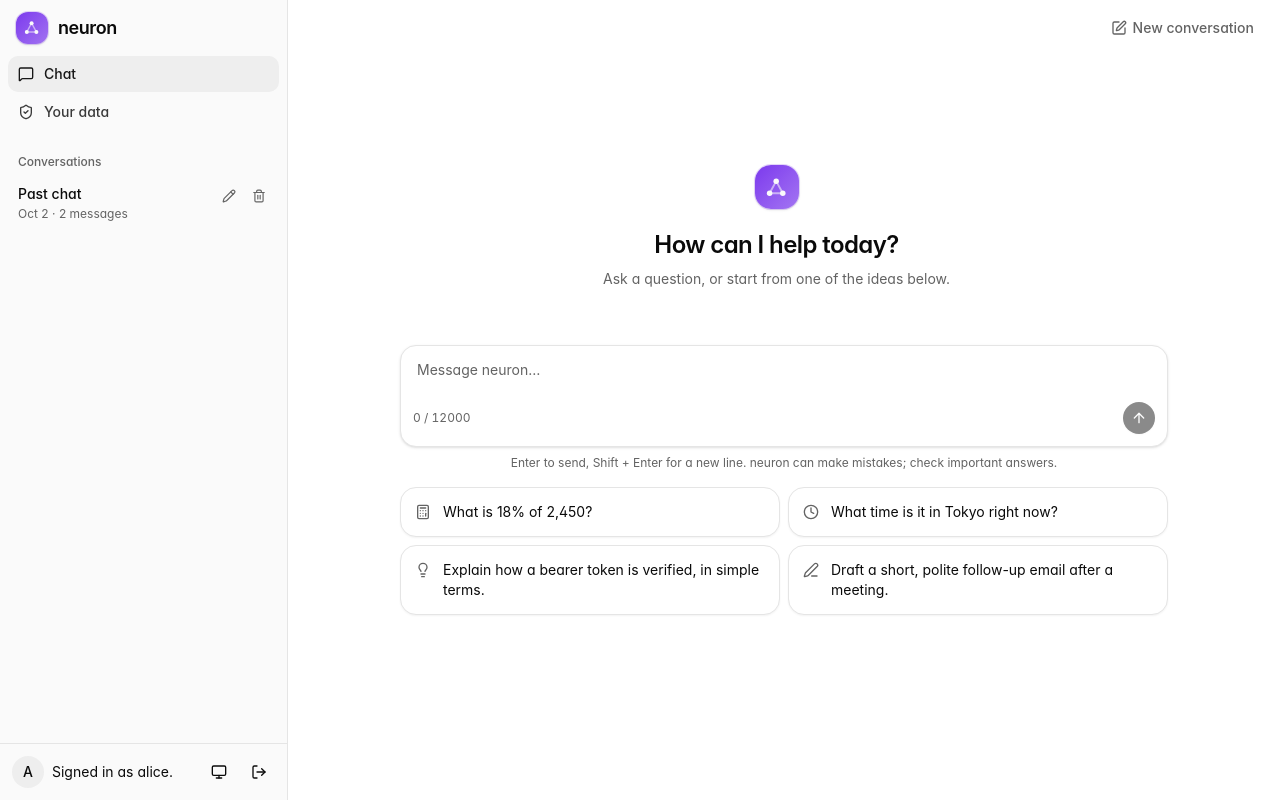
Test case: a conversation that ended waiting for approval › shows the card from the server's copy of the request and decides it
The width and height of the screenshot is (1280, 800).
Click the button with aria-label "Open Past chat".
click(50, 194)  # box [8,176,279,230]
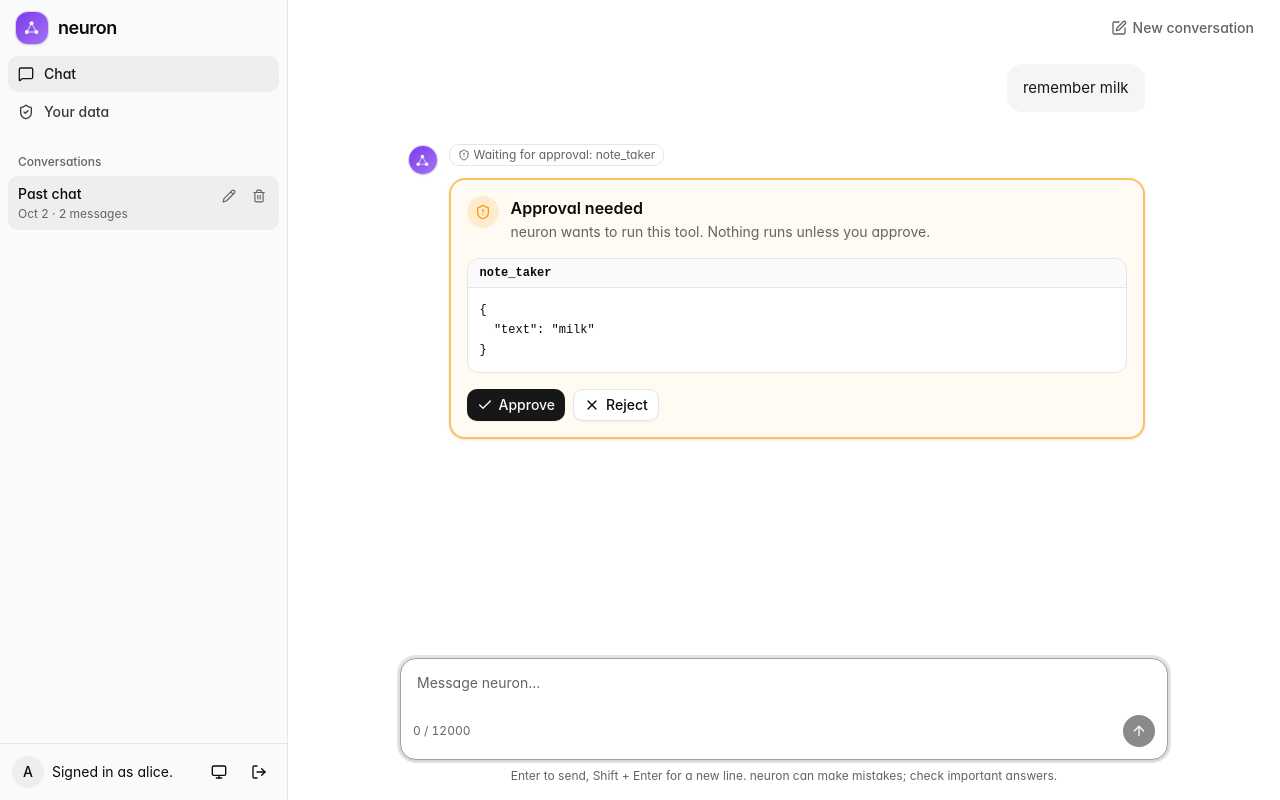
Now the text "note_taker" is shown, box [468,259,1126,288]
Now the element named "Approval required" shows "\"text\": \"milk\"", box [480,303,595,357]
Click the button "Approve".
click(516, 405)  # box [466,389,565,421]
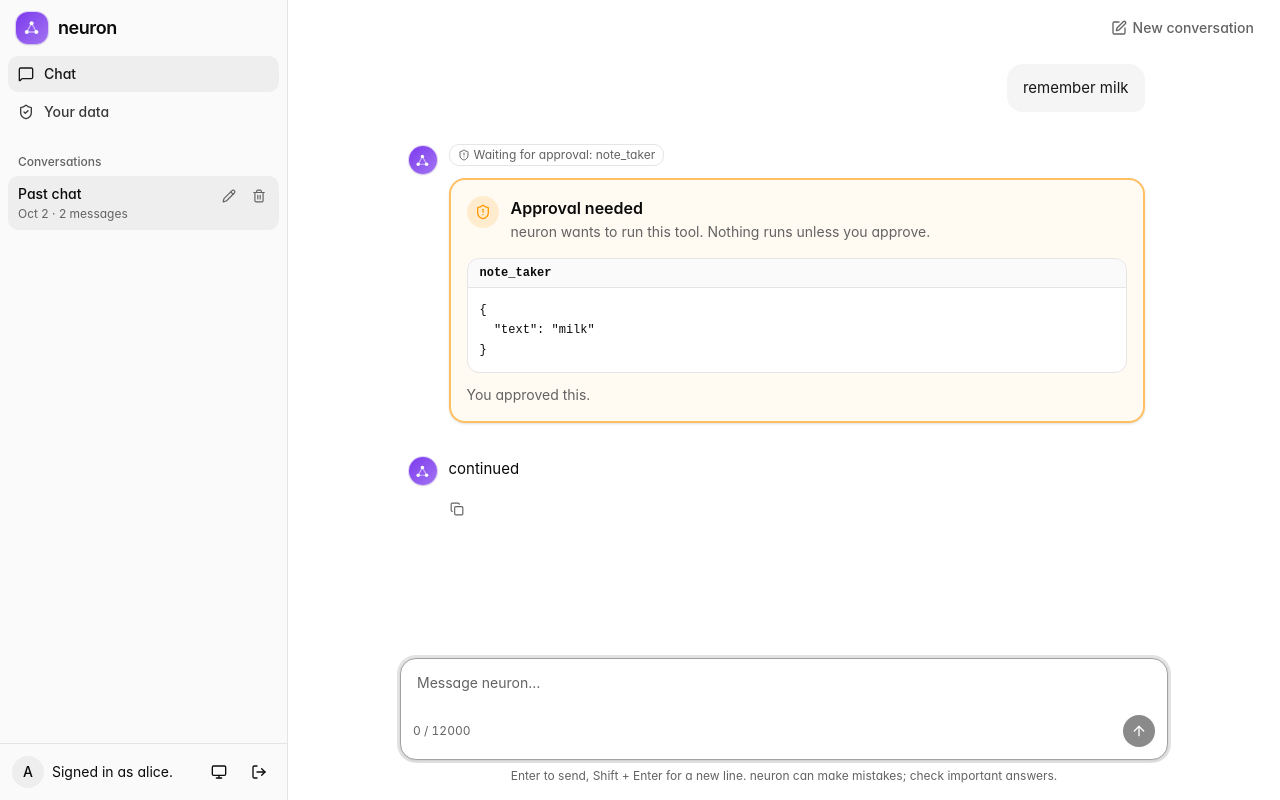
Now the text "continued" is shown, box [448,459,519,478]
